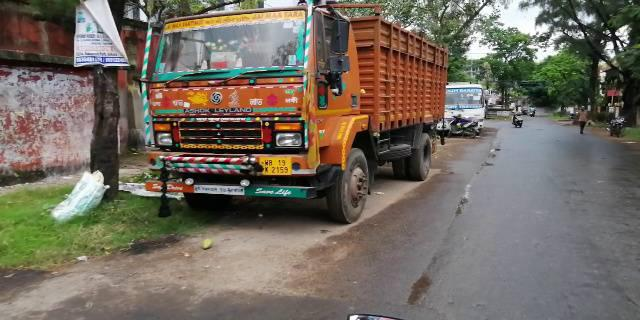Truck: (143, 10, 449, 217)
